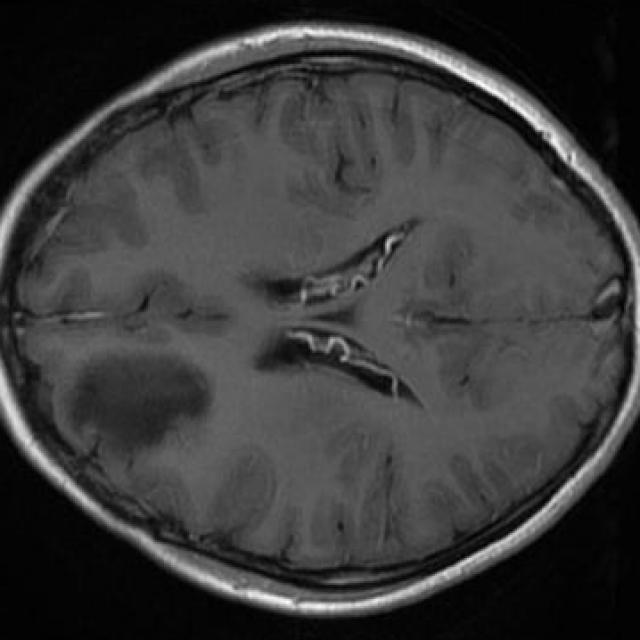glioma: (68, 355, 209, 447)
